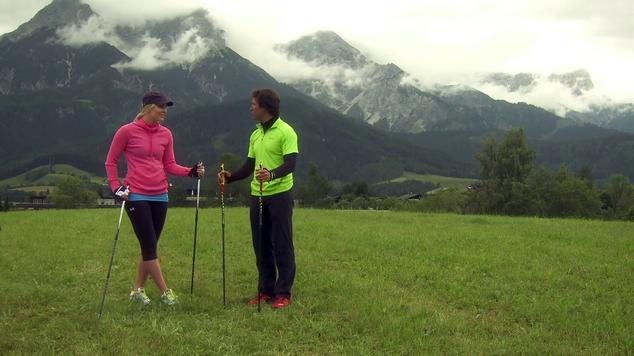walk: (110, 89, 194, 291)
